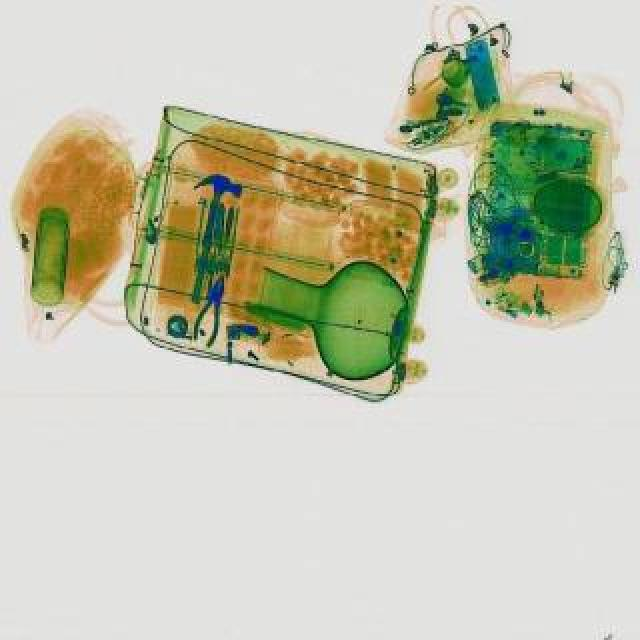pliers: (204, 224, 234, 262)
wrench: (188, 276, 232, 352)
